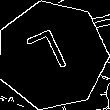L_SE: (27, 26, 77, 84)
